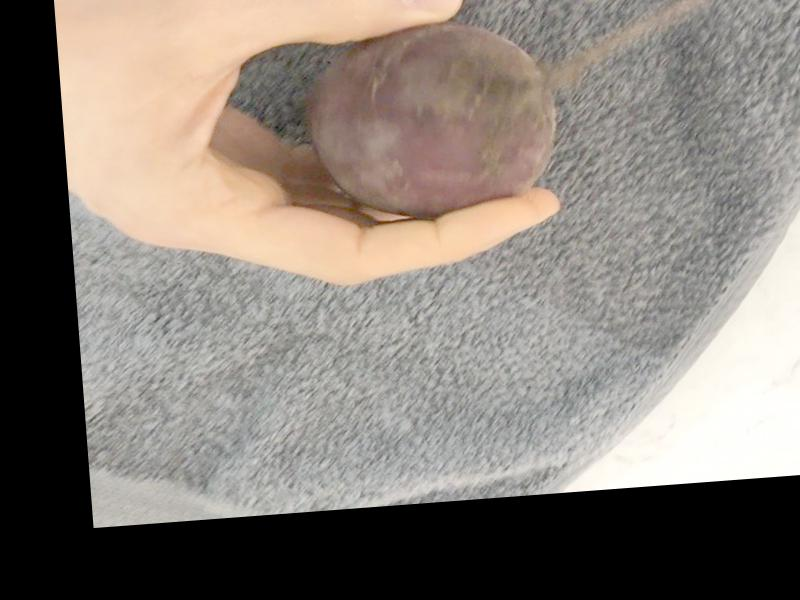Beet: (301, 15, 560, 225)
